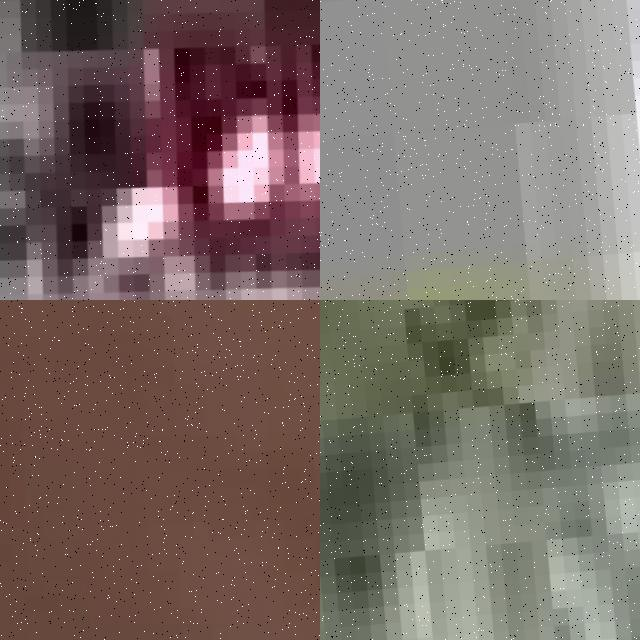drone: (0, 300, 320, 640), (0, 0, 320, 300)
